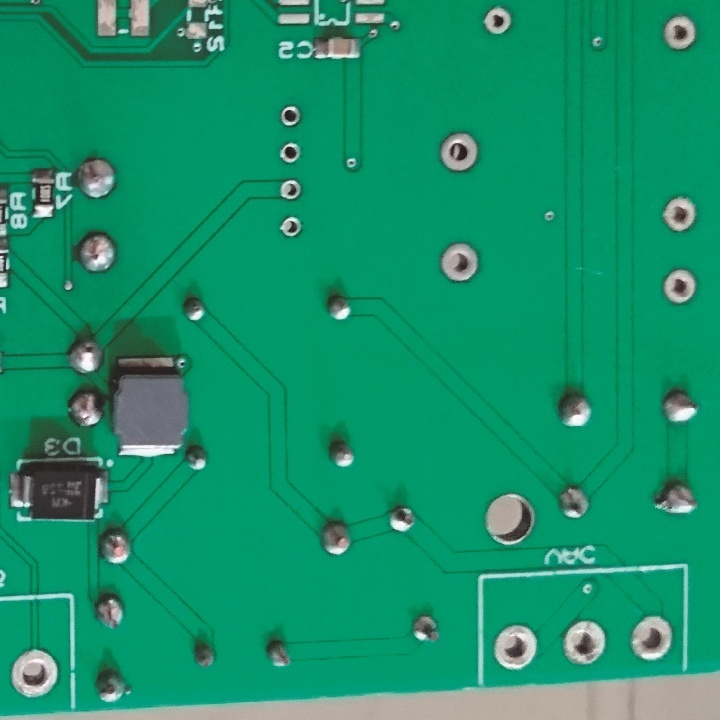F: (7, 647, 65, 700), (488, 621, 541, 669), (561, 618, 610, 666), (628, 615, 676, 663), (438, 238, 481, 286), (437, 132, 483, 173), (660, 262, 700, 308), (658, 13, 699, 57), (660, 193, 700, 237), (479, 8, 514, 41), (274, 175, 307, 204), (275, 212, 309, 240), (275, 138, 305, 168), (275, 103, 304, 132)
